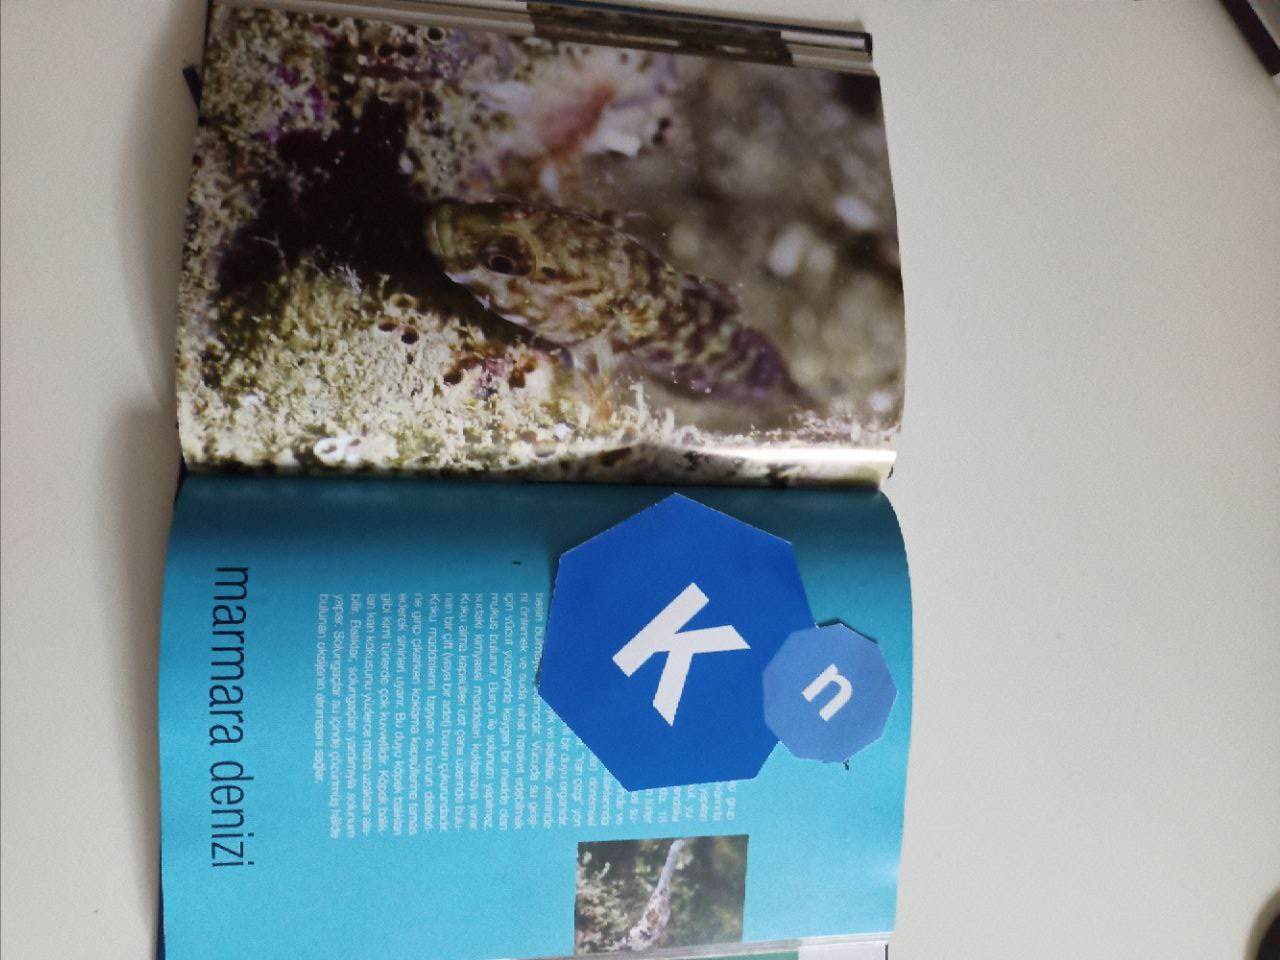knative: (534, 493, 900, 796)
